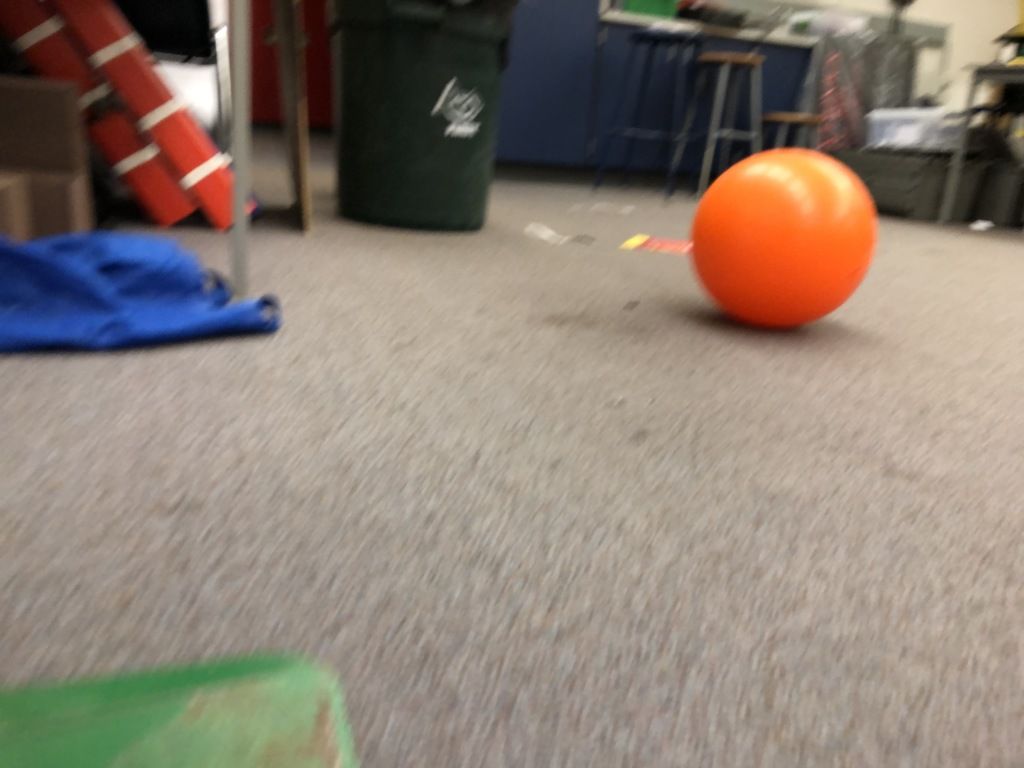cargo: (683, 138, 883, 343)
